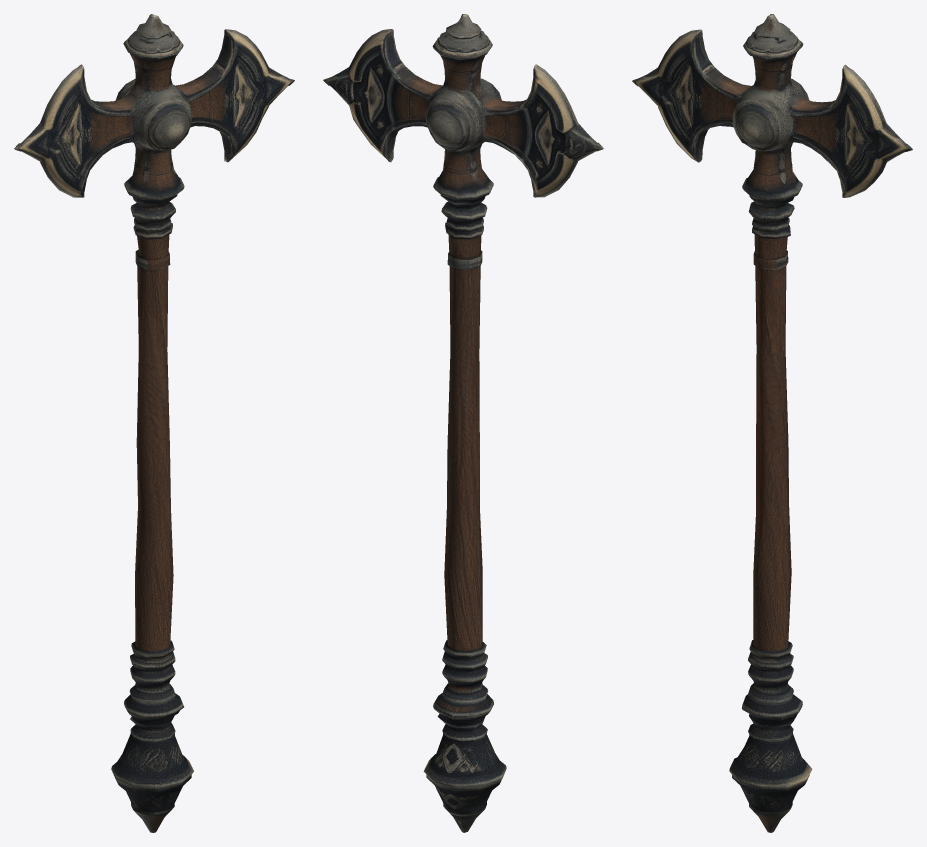
Rendered from mace.glb.
The picture shows the model from 3 angles, left to right: view 1: azimuth 30°, elevation 25°; view 2: azimuth 150°, elevation 25°; view 3: azimuth 330°, elevation 25°; orthographic projection.
Size of the model in its own units: 0.3413 by 0.9512 by 0.0952.
1 material, 1 textured.
